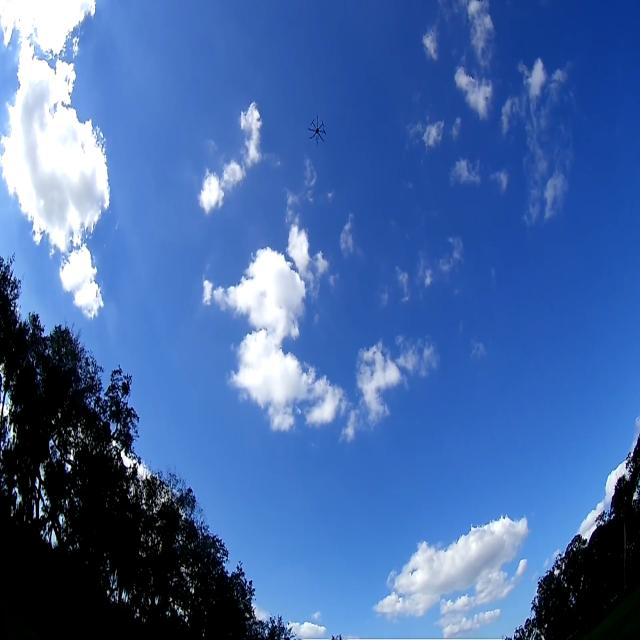drone: (307, 112, 329, 148)
